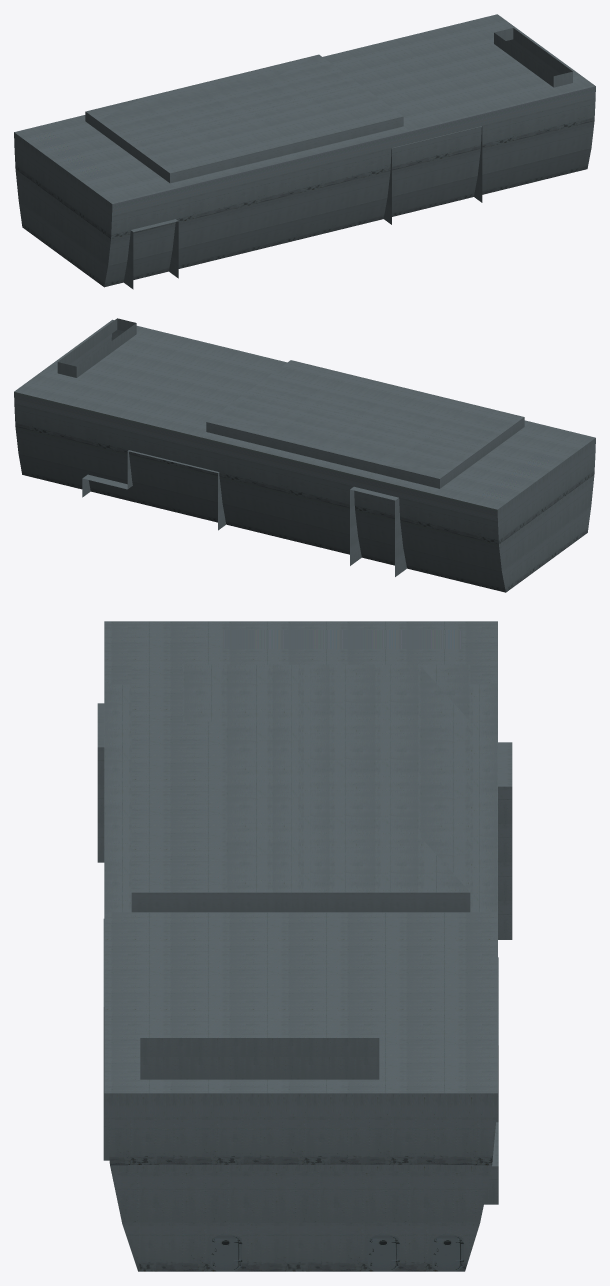
Rendered from freight_interiorsfw.obj.
The picture shows the model from 3 angles, top to bottom: view 1: azimuth 30°, elevation 25°; view 2: azimuth 150°, elevation 25°; view 3: azimuth 270°, elevation 25°; orthographic projection. The views are drawn at different scales.
Visible parts, largest first — view 1: freight_interiorsfw; view 2: freight_interiorsfw; view 3: freight_interiorsfw.
Boxes of the visible parts, <box> form: freight_interiorsfw: <box>14,14,595,289</box>; freight_interiorsfw: <box>14,318,595,592</box>; freight_interiorsfw: <box>97,621,512,1271</box>.
Size of the model in its own units: 76.59 by 15.22 by 28.44.
Materials: 4 (4 with a texture image).
